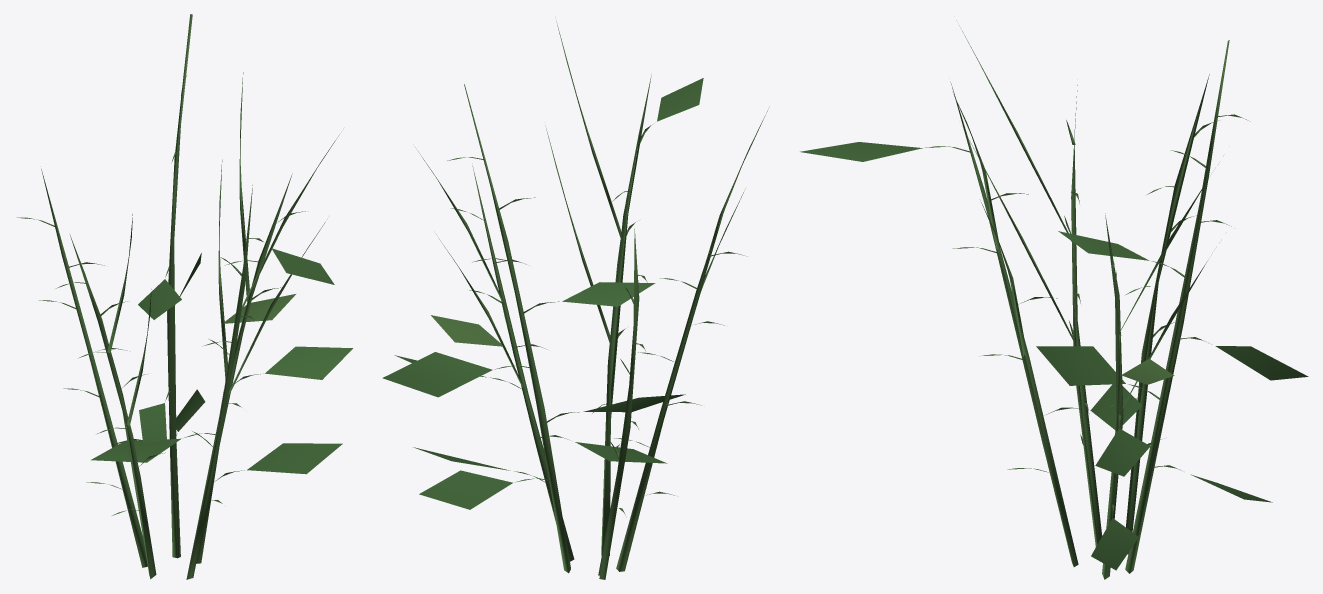
The model's file is Fragon_0_Niveau2.fbx.
The picture shows the model from 3 angles, left to right: view 1: azimuth 30°, elevation 25°; view 2: azimuth 150°, elevation 25°; view 3: azimuth 270°, elevation 25°; orthographic projection. The views are drawn at different scales.
Parts seen in each view (by area): view 1: Fragon_0_Niveau2; view 2: Fragon_0_Niveau2; view 3: Fragon_0_Niveau2.
Part boxes in pixels (<box>): Fragon_0_Niveau2: <box>17,14,352,579</box>; Fragon_0_Niveau2: <box>382,21,769,579</box>; Fragon_0_Niveau2: <box>800,20,1308,579</box>.
Size of the model in its own units: 27.34 by 40.01 by 32.72.
